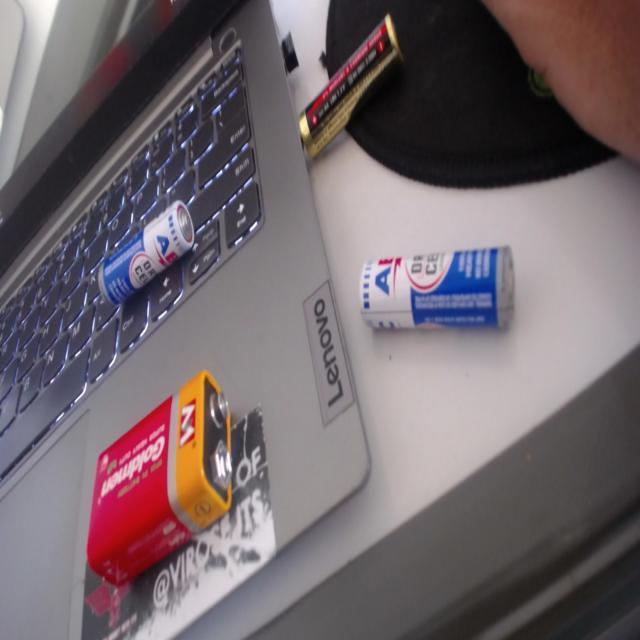9V: (70, 365, 276, 590)
AA: (349, 232, 534, 360), (287, 0, 407, 170), (90, 192, 212, 306)
